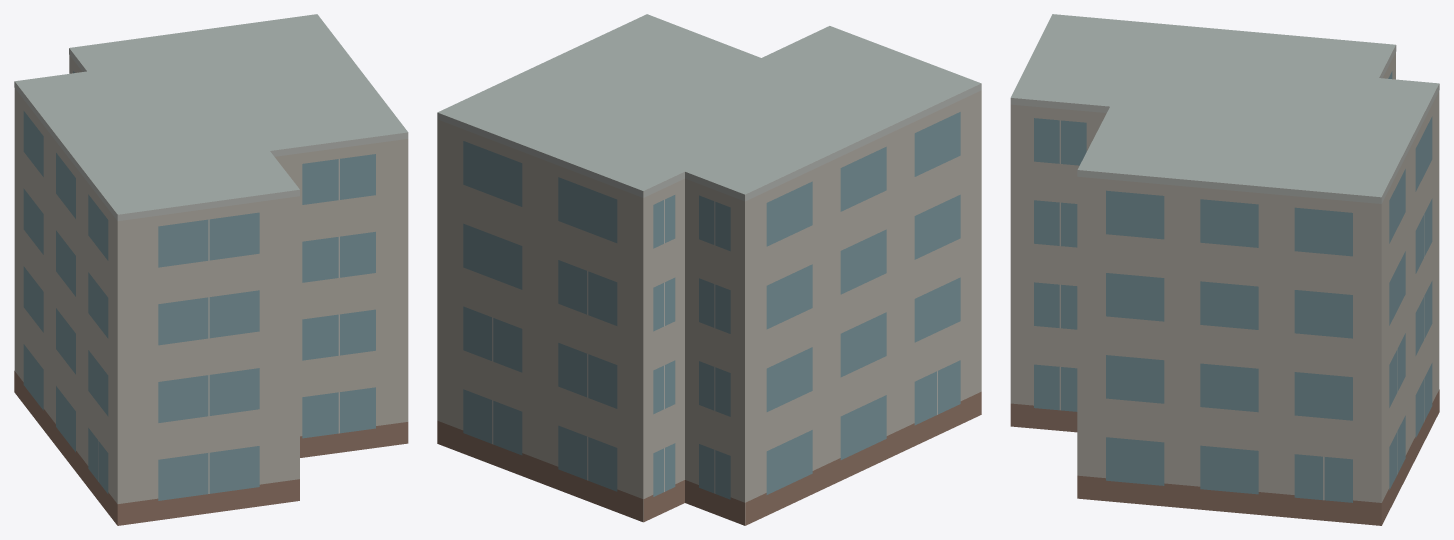
Rendered from survey-upis-32805270.glb.
3 views of the same model, side by side, from view 1: azimuth 30°, elevation 25°; view 2: azimuth 150°, elevation 25°; view 3: azimuth 270°, elevation 25° (orthographic). The views are drawn at different scales.
Parts seen in each view (by area): view 1: survey-upis-32805270.tmp; view 2: survey-upis-32805270.tmp; view 3: survey-upis-32805270.tmp.
Boxes of the visible parts, box(x1,y1,x2,y2) form: survey-upis-32805270.tmp: box(14, 14, 408, 525); survey-upis-32805270.tmp: box(437, 14, 981, 525); survey-upis-32805270.tmp: box(1010, 14, 1439, 525).
Bounding box in the file's own units: 14.11 × 11.79 × 13.95.
